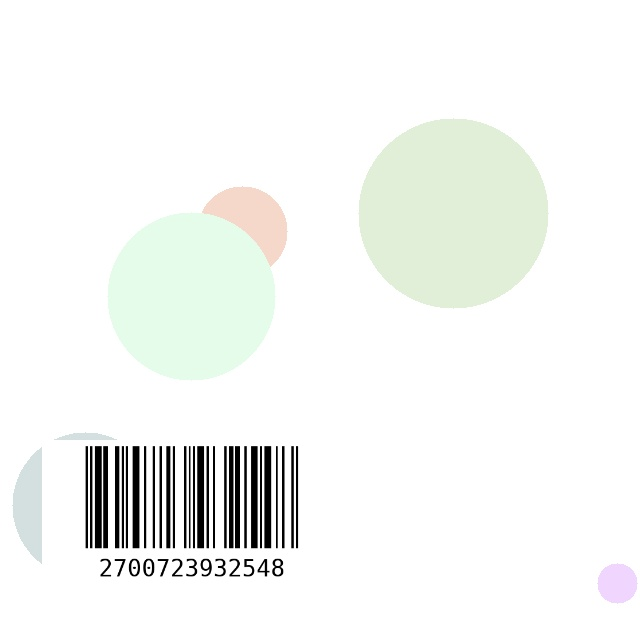barcode: (42, 440, 342, 601)
